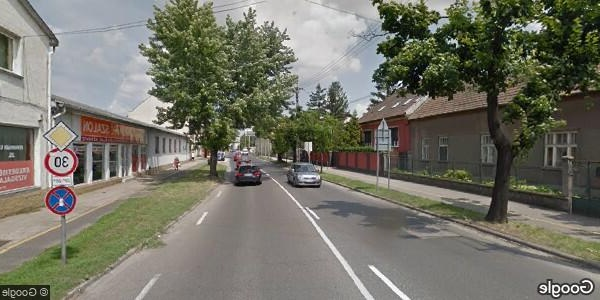b_speed_limit: (42, 148, 79, 177)
e_no_stop_park: (44, 185, 76, 215)
